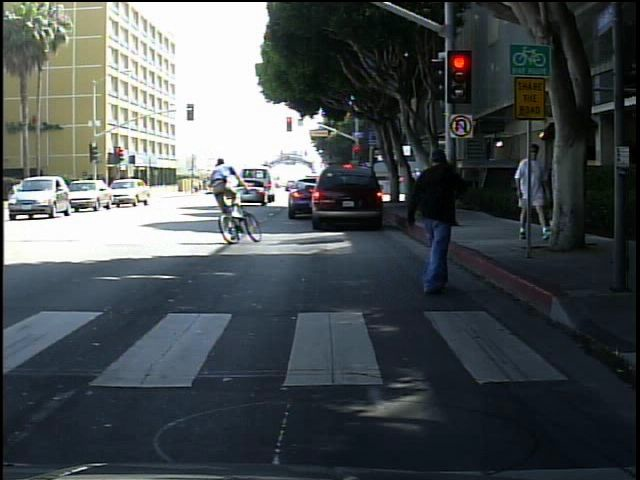person: (400, 147, 465, 298), (182, 145, 244, 233), (508, 138, 551, 242), (546, 139, 582, 244)
